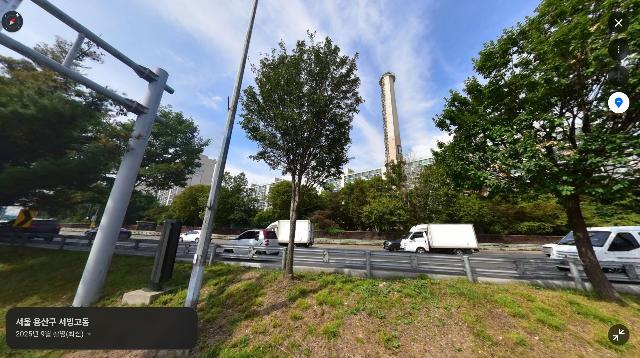other: (429, 0, 640, 304), (0, 34, 217, 230), (237, 28, 367, 281), (392, 150, 446, 232), (354, 162, 412, 234), (313, 180, 368, 233), (432, 171, 479, 233), (162, 185, 217, 231)
